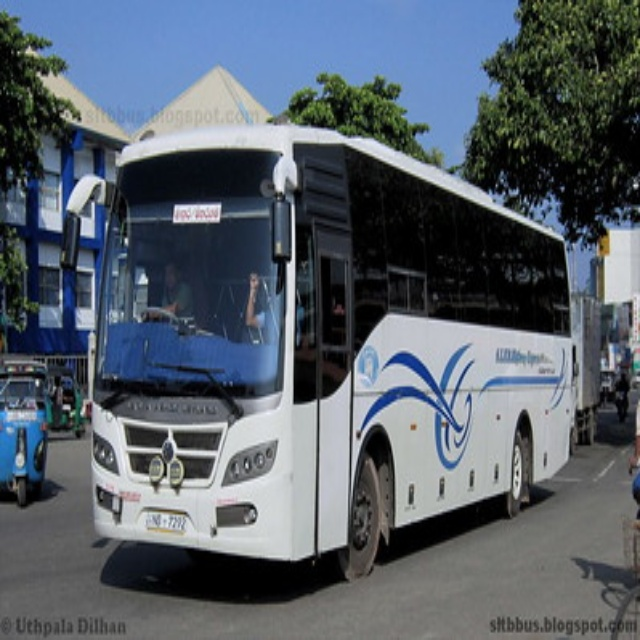Bus: (88, 123, 576, 584)
Motorcycle: (2, 361, 50, 507), (45, 366, 85, 440)
